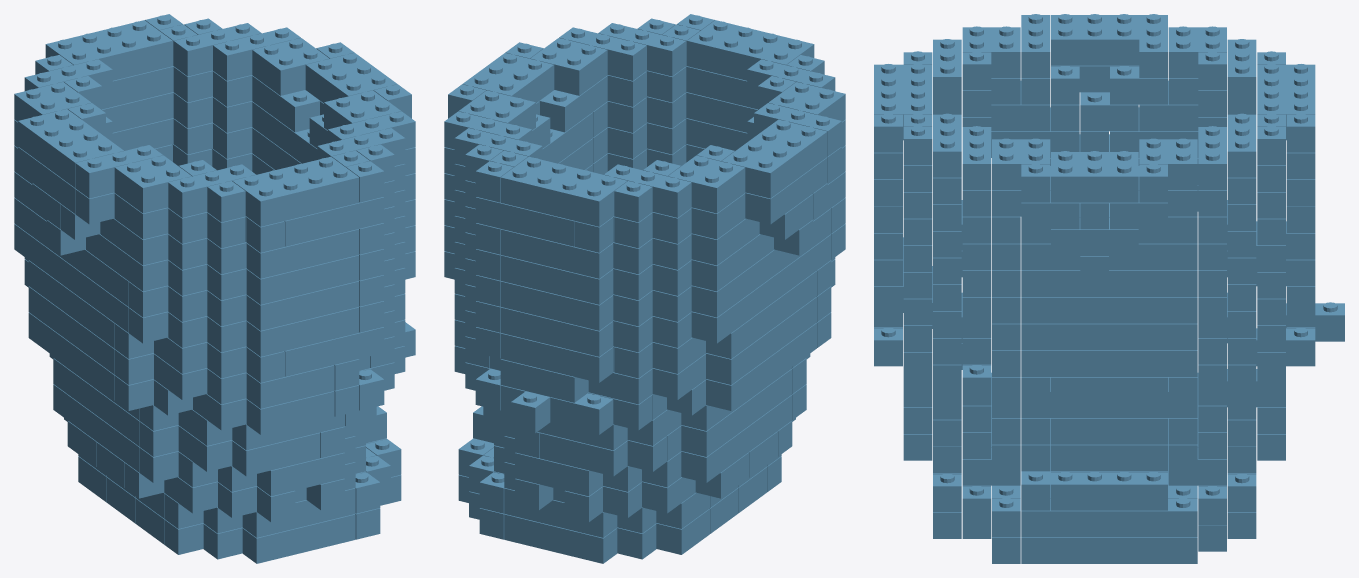
The model's file is 103_bowl_L3.glb.
The picture shows the model from 3 angles, left to right: view 1: azimuth 30°, elevation 25°; view 2: azimuth 150°, elevation 25°; view 3: azimuth 270°, elevation 25°; orthographic projection. The views are drawn at different scales.
Bounding box in the file's own units: 12.98 × 15.13 × 15.98.
